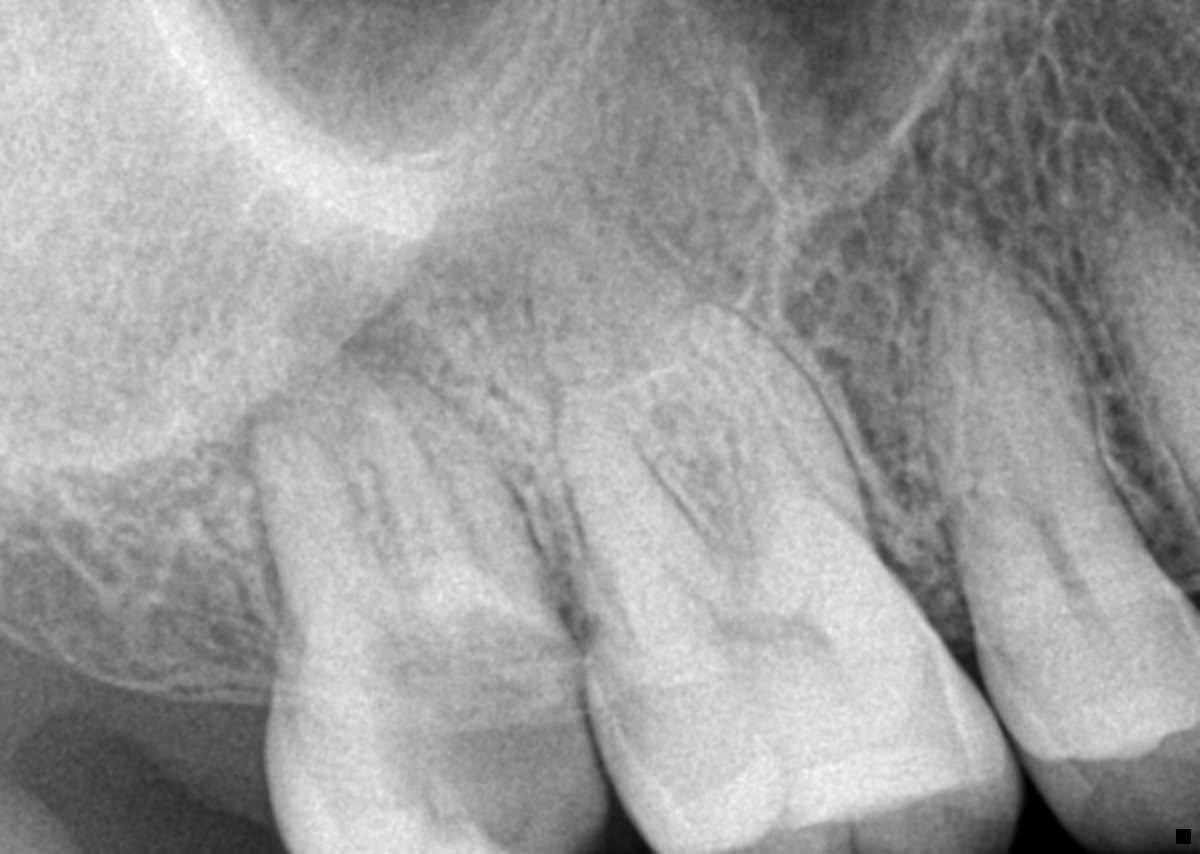Apical Lesion: (280, 286, 458, 424), (233, 374, 364, 475)
Distal Canal: (623, 510, 707, 606)
Distal Root: (558, 384, 715, 628), (251, 419, 392, 648)
Main Canal: (1022, 481, 1089, 598)
Main Root: (921, 241, 1164, 629), (707, 574, 833, 671)
Mesial Root: (675, 302, 868, 570), (363, 370, 531, 597)
Palatal Root: (536, 220, 853, 611)
decay: (373, 607, 614, 853), (596, 637, 652, 751)
